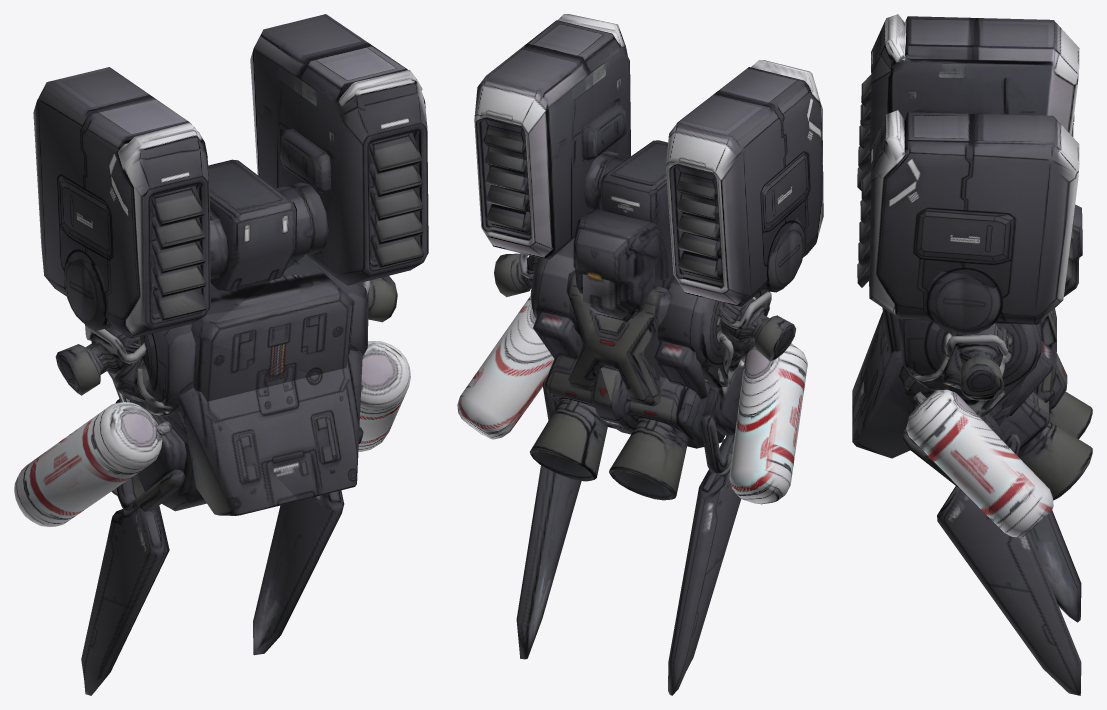
The picture shows the model from 3 angles, left to right: view 1: azimuth 30°, elevation 25°; view 2: azimuth 150°, elevation 25°; view 3: azimuth 270°, elevation 25°; orthographic projection. The views are drawn at different scales.
Visible parts, largest first — view 1: b_hi; view 2: b_hi; view 3: b_hi.
Part boxes in pixels (bbox=[...]): b_hi: bbox=[14, 14, 428, 695]; b_hi: bbox=[457, 14, 823, 695]; b_hi: bbox=[852, 14, 1092, 695].
Size of the model in its own units: 3.14 by 5.25 by 1.96.
1 material, 1 textured.
